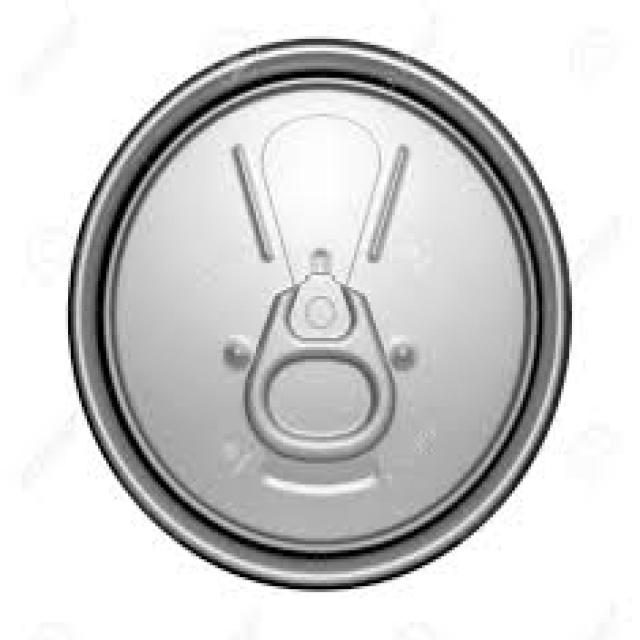metal: (63, 36, 572, 586), (240, 266, 398, 458)
